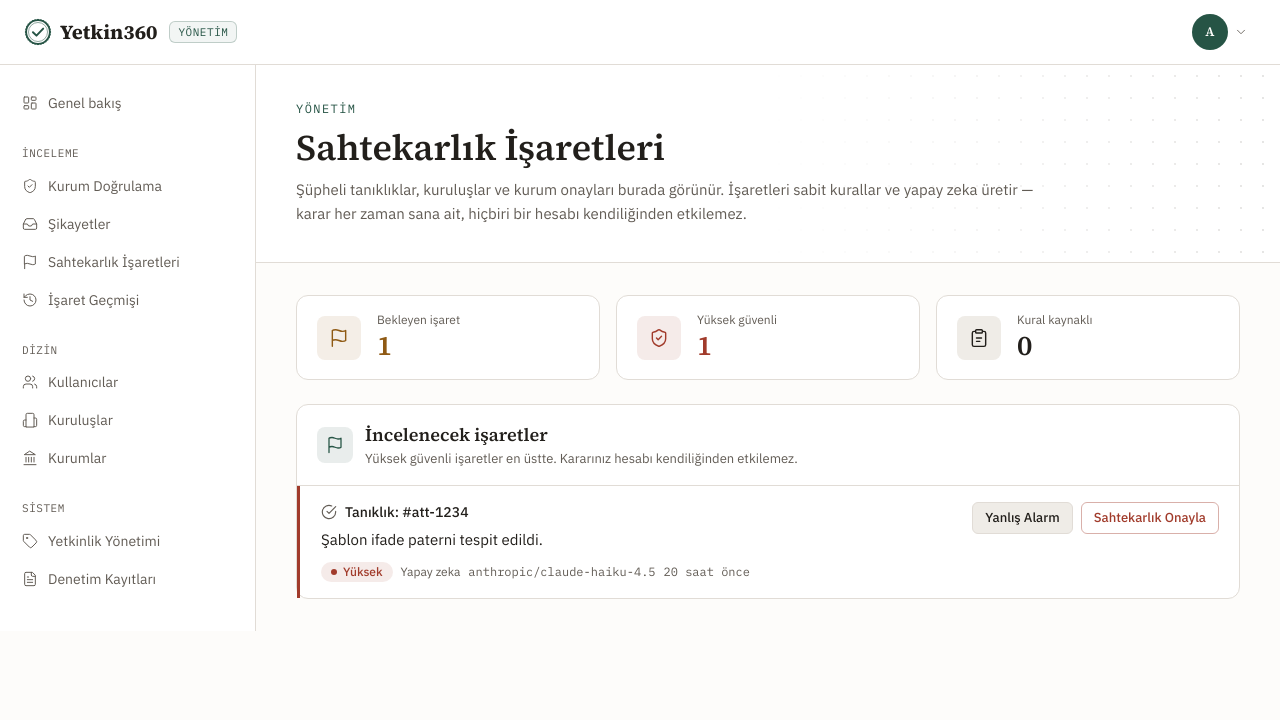
Scenario: SahtekarlikIsaretleriPage (/admin/sahtekarlik-isaretleri) › Sahtekarlık Onayla tıklanınca resolveFraudFlag CONFIRMED ile çağrılır ve satır kaybolur
expect the text "Şablon ifade paterni tespit edildi." is shown: met, box [321,530,543,548]
Click the button "Sahtekarlık Onayla".
click(1150, 518)  # box [1081,502,1219,534]
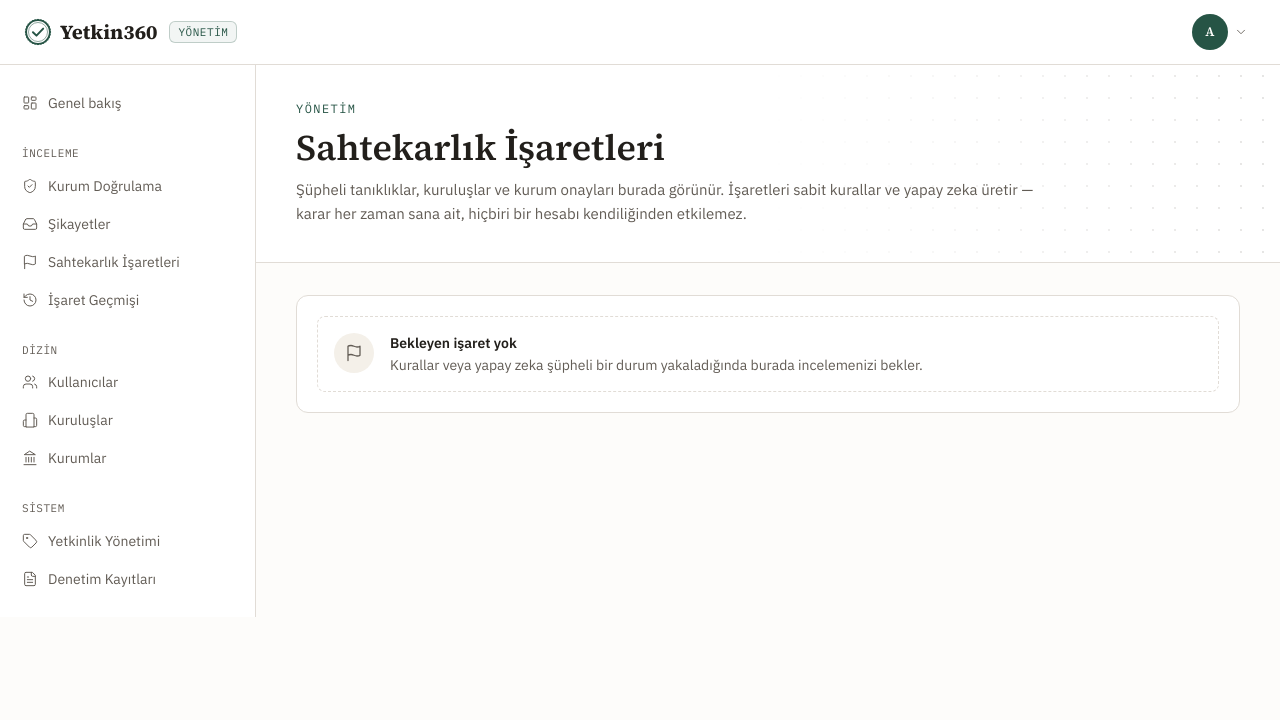
expect the text "Şablon ifade paterni tespit edildi." is gone: met
